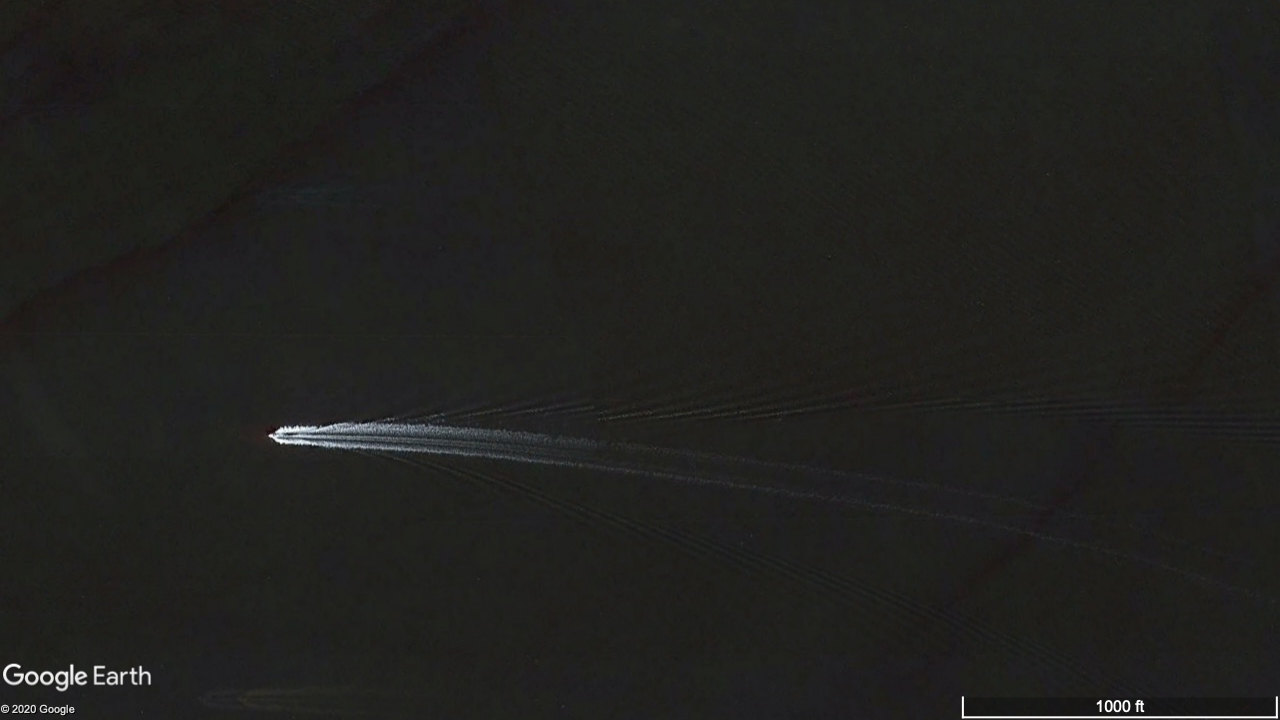satboat: (268, 433, 280, 439)
